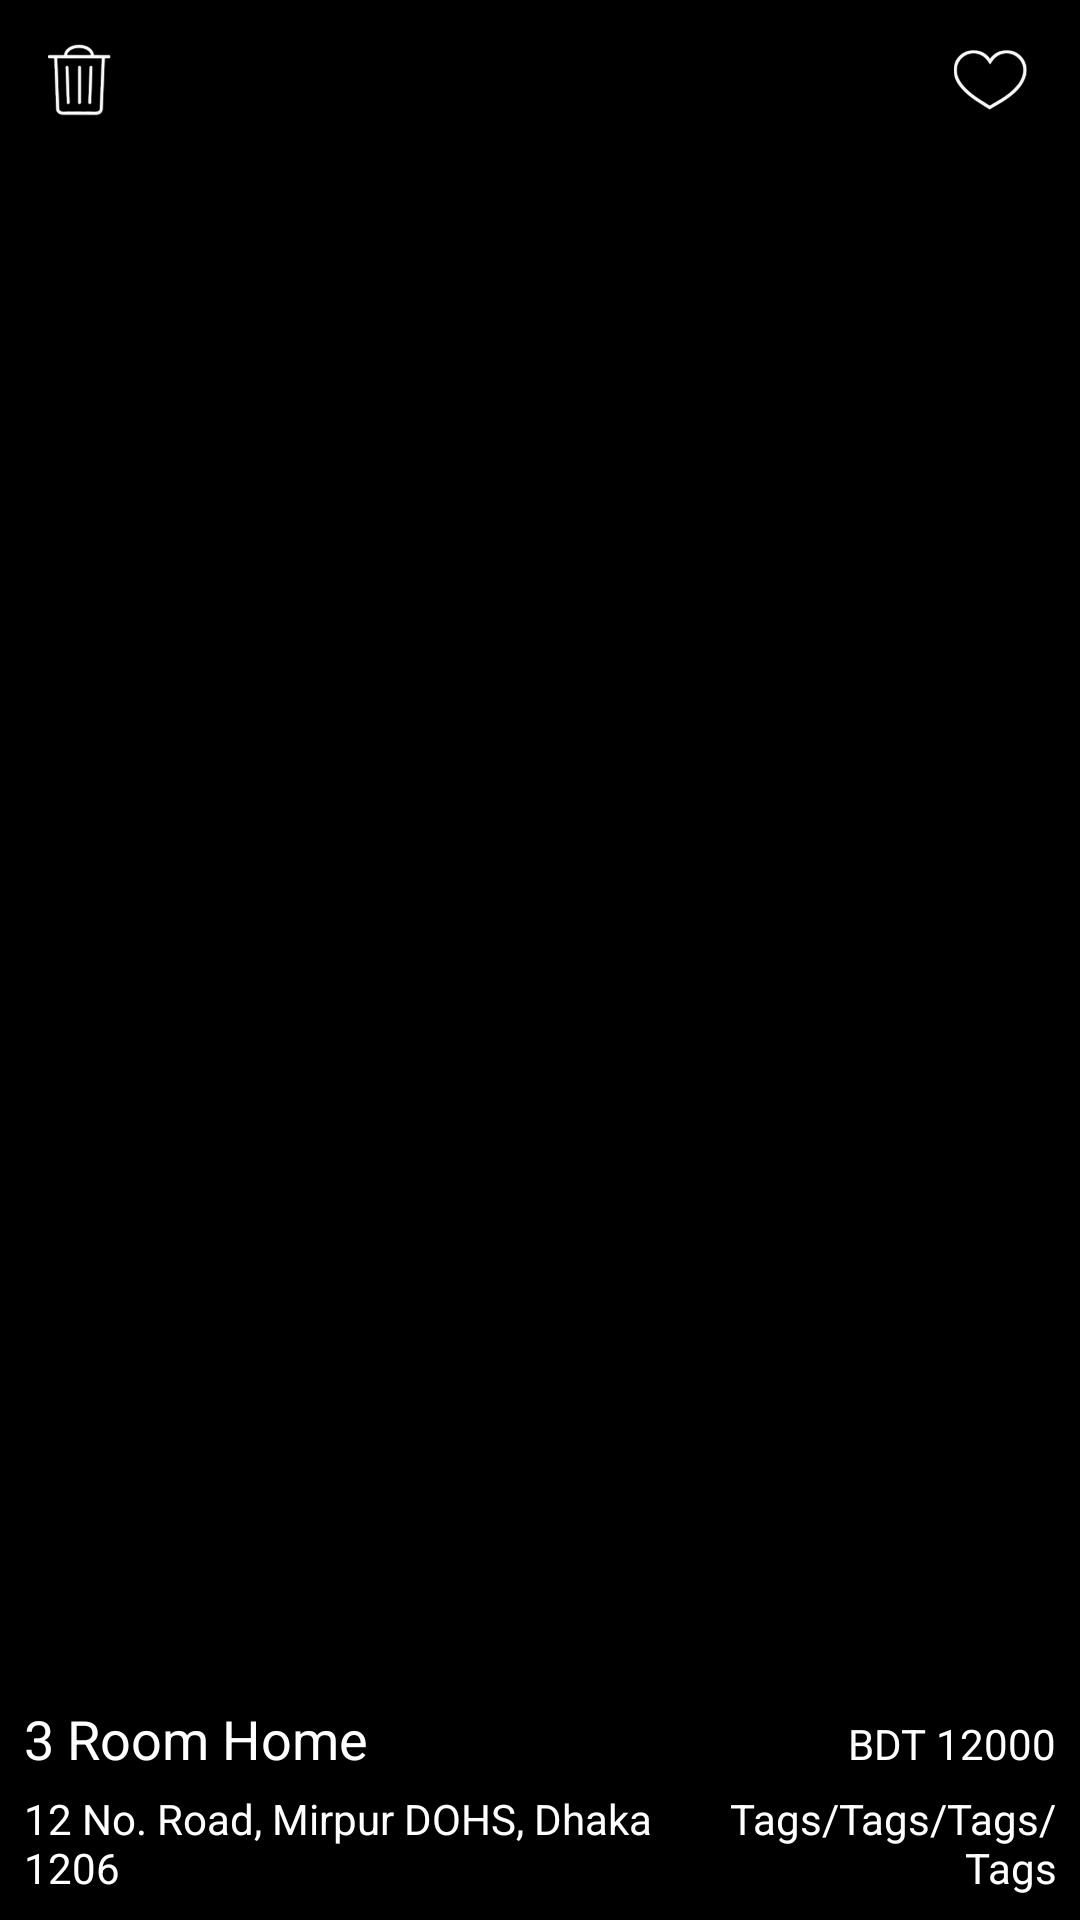

Icon click points for this 1080w x 1920h phone screenshot, format point (x, y):
listing to favorite: point (990, 80)
listing to hide: point (79, 80)
